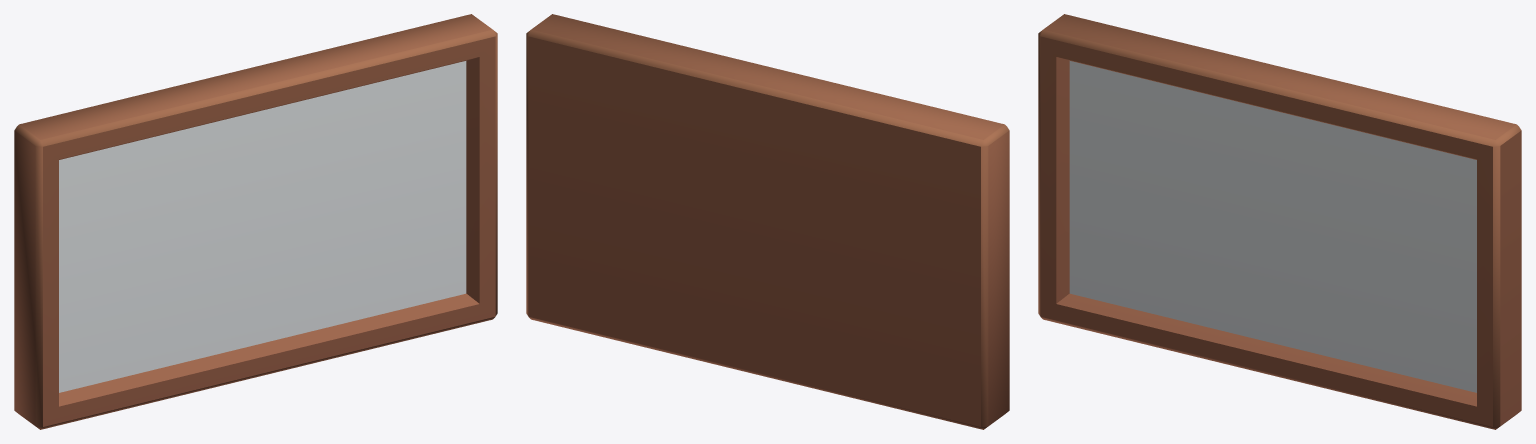
File: pictureframe-large-b.glb
3 renders of one model, left to right at view 1: azimuth 30°, elevation 25°; view 2: azimuth 150°, elevation 25°; view 3: azimuth 330°, elevation 25°, orthographic.
Visible parts, largest first — view 1: pictureframe_large_B; view 2: pictureframe_large_B; view 3: pictureframe_large_B.
Boxes of the visible parts, x1=… form: pictureframe_large_B: x1=14, y1=14, x2=497, y2=429; pictureframe_large_B: x1=526, y1=14, x2=1009, y2=429; pictureframe_large_B: x1=1038, y1=14, x2=1521, y2=429.
Size of the model in its own units: 2 by 1.2 by 0.2.
